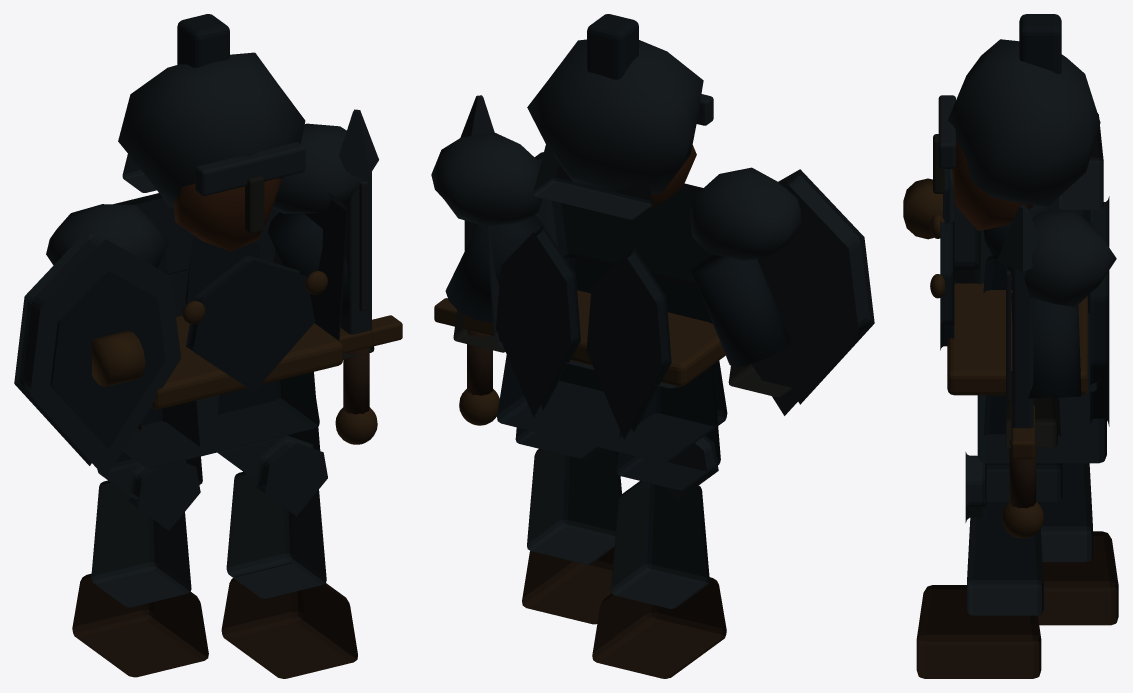
Rendered from Warrior_pose.obj.
3 views of the same model, side by side, from view 1: azimuth 30°, elevation 25°; view 2: azimuth 150°, elevation 25°; view 3: azimuth 270°, elevation 25° (orthographic).
Parts seen in each view (by area): view 1: rounded_war_helm, dark_kite_shield, blue_breast_tabard, shield_face, square_sabaton.001, segmented_greave.001, square_sabaton, segmented_greave, split_tabard, forged_cuirass, bronze_belt, rounded_pauldron.001 (+19 smaller); view 2: rounded_war_helm, dark_kite_shield, split_tabard, folded_cloak, folded_cloak.001, segmented_greave, forged_cuirass, segmented_greave.001, square_sabaton, rounded_pauldron.001, rounded_pauldron, blue_sleeve (+15 smaller); view 3: rounded_war_helm, square_sabaton.001, bronze_belt, segmented_greave.001, rounded_pauldron.001, square_sabaton, split_tabard, blue_sleeve.001, segmented_greave, short_sword_blade, blue_thigh.001, folded_cloak.001 (+18 smaller).
Boxes of the visible parts, left/top/right/bottom form: rounded_war_helm: left=118, top=52, right=305, bottom=207; dark_kite_shield: left=14, top=227, right=181, bottom=477; blue_breast_tabard: left=186, top=254, right=315, bottom=391; shield_face: left=50, top=271, right=165, bottom=449; square_sabaton.001: left=221, top=563, right=357, bottom=678; segmented_greave.001: left=226, top=471, right=326, bottom=598; square_sabaton: left=72, top=573, right=208, bottom=677; segmented_greave: left=91, top=480, right=191, bottom=607; split_tabard: left=123, top=269, right=319, bottom=468; forged_cuirass: left=113, top=192, right=347, bottom=340; bronze_belt: left=151, top=315, right=343, bottom=409; rounded_pauldron.001: left=272, top=123, right=367, bottom=213; rounded_war_helm: left=527, top=39, right=703, bottom=194; dark_kite_shield: left=751, top=169, right=874, bottom=415; split_tabard: left=497, top=254, right=727, bottom=462; folded_cloak: left=586, top=247, right=671, bottom=439; folded_cloak.001: left=496, top=225, right=580, bottom=417; segmented_greave: left=611, top=481, right=709, bottom=608; forged_cuirass: left=486, top=152, right=712, bottom=388; segmented_greave.001: left=527, top=448, right=621, bottom=564; square_sabaton: left=592, top=577, right=726, bottom=678; rounded_pauldron.001: left=431, top=132, right=542, bottom=226; rounded_pauldron: left=690, top=167, right=801, bottom=260; blue_sleeve: left=691, top=254, right=790, bottom=367; rounded_war_helm: left=947, top=39, right=1100, bottom=205; square_sabaton.001: left=916, top=585, right=1041, bottom=678; bronze_belt: left=947, top=283, right=1087, bottom=395; segmented_greave.001: left=967, top=502, right=1043, bottom=615; rounded_pauldron.001: left=1004, top=211, right=1116, bottom=306; square_sabaton: left=1038, top=531, right=1118, bottom=625; split_tabard: left=977, top=255, right=1106, bottom=463; blue_sleeve.001: left=1011, top=293, right=1081, bottom=398; segmented_greave: left=1039, top=463, right=1092, bottom=562; short_sword_blade: left=1012, top=267, right=1033, bottom=428; blue_thigh.001: left=982, top=395, right=1062, bottom=501; folded_cloak.001: left=1090, top=241, right=1109, bottom=426.
Bounding box in the file's own units: 1.32 × 1.93 × 0.6119.
